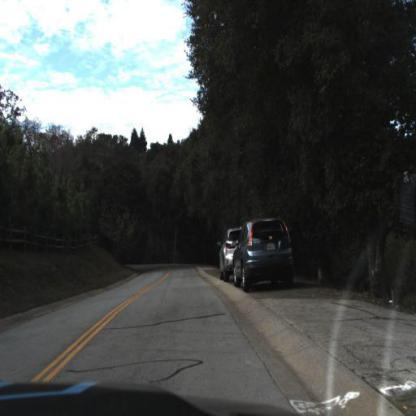car: (231, 214, 296, 293), (222, 223, 237, 283)
